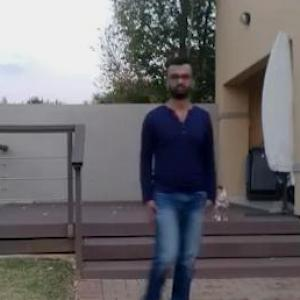follow: (124, 53, 218, 299)
